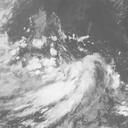cyclone: (31, 38, 99, 102)
